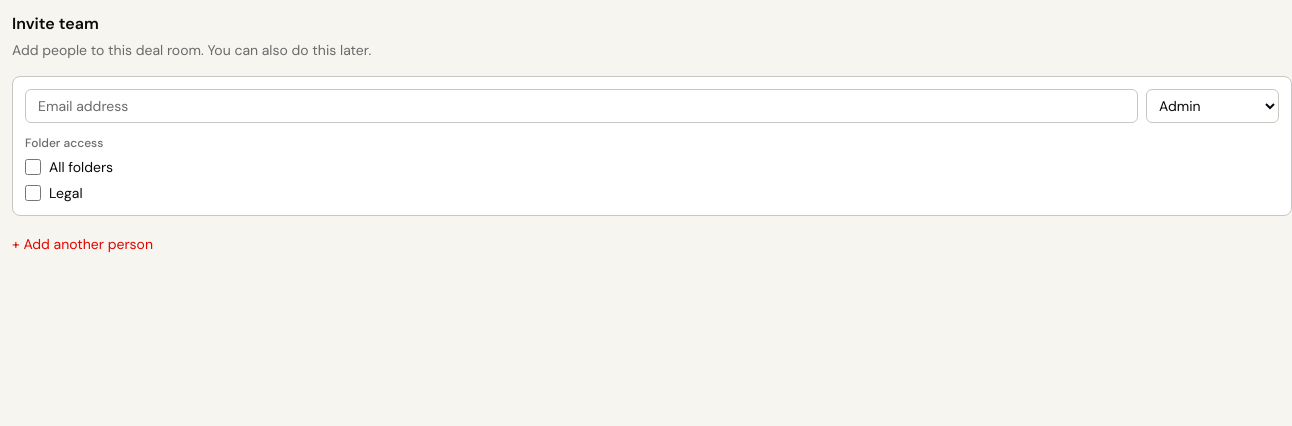
Test case: StepInvite › can add and remove rows
What coordinates should you click on to do the following:
click the button "+ Add another person"
I would click on:
 (82, 244)
Its box is [12,234,153,254].
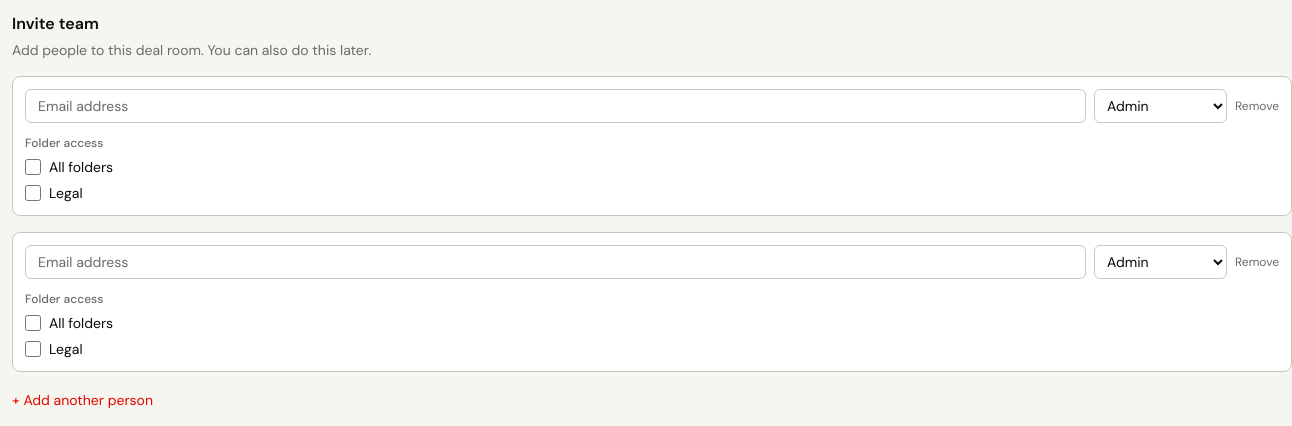
Now the number of fields labelled "Email address" is 2, box [25,89,1086,123]; [25,245,1086,279]
What coordinates should you click on to do the following:
click the button with aria-label "remove row 1"
I would click on:
 (1257, 106)
Its box is [1235,98,1279,114].
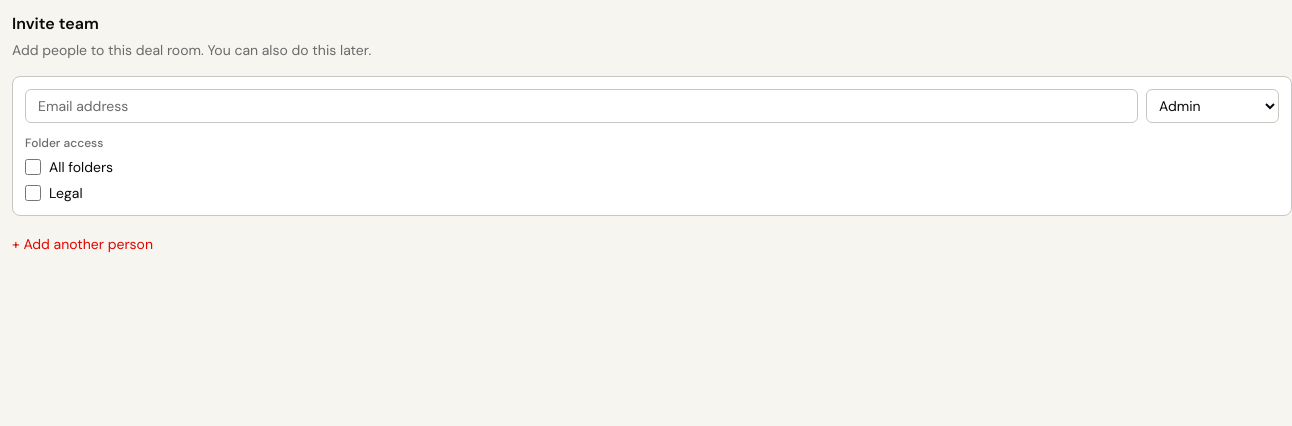
Now the number of fields labelled "Email address" is 1, box [25,89,1138,123]
